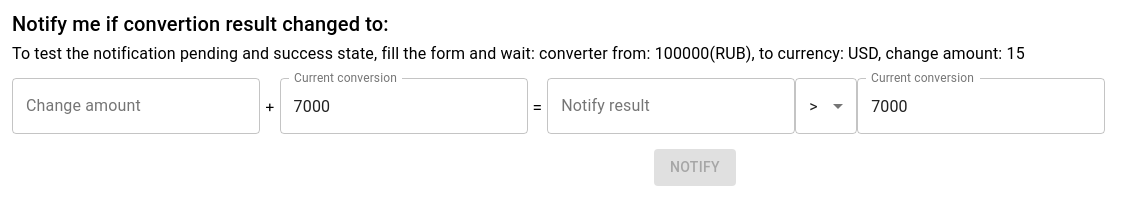
Test case: NotifierForm calculate notify sum
This screenshot has width=1122, height=206.
Step 1. Type "100" into the number field with test id "notifier-change-to-sum" → (136, 106), box 12,78 -> 260,134
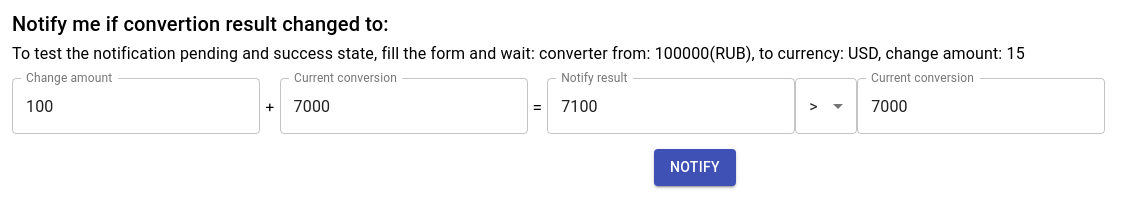
Result: the field with test id "notifier-notify-sum" holds "7100" at 547,78 -> 795,134
